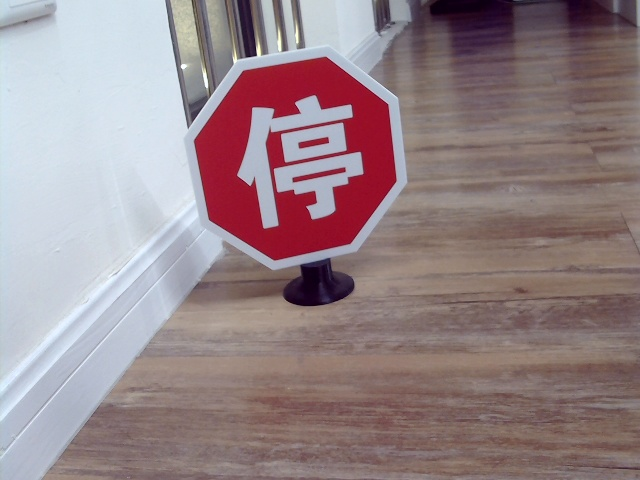stop: (236, 99, 364, 221)
